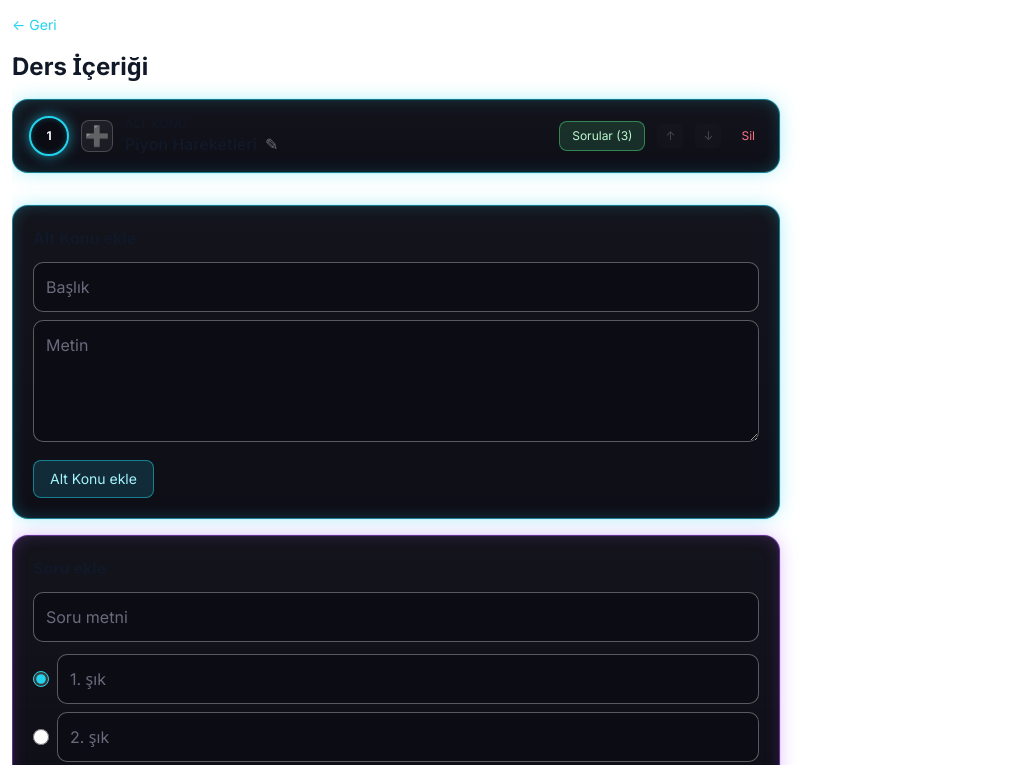
it: Admin ders sayfası — "Ödevini Yap": sadece Soru Sayısı (Başarı Puanı YOK) › "Ödevini Yap"ta Başarı Puanı Belirle kutusu GÖSTERİLMEZ
This screenshot has width=1036, height=765.
Click the button "Sorular (3)" at point(602, 136), box [559, 121, 645, 151]
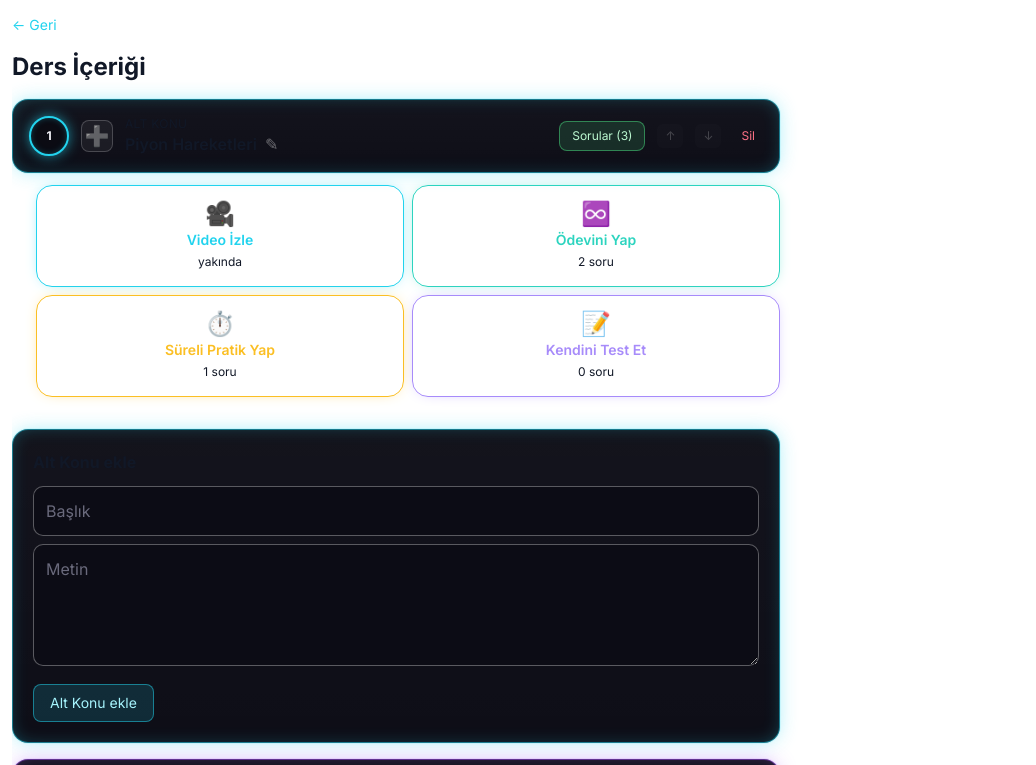
Expected: the text "Ödevini Yap" is shown
Click the text "Ödevini Yap" at point(596, 240), box [556, 230, 636, 250]
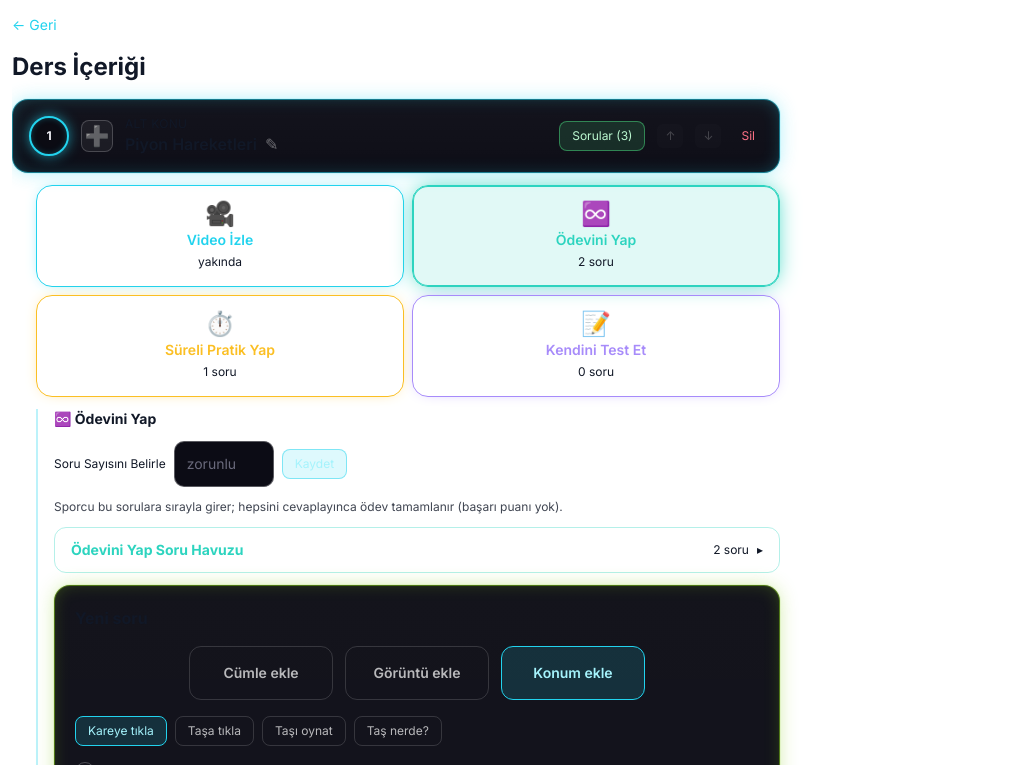
Expected: the text "Soru Sayısını Belirle" is shown, [54, 456, 166, 472]
Expected: the number field labelled "Soru Sayısını Belirle" is shown, [174, 441, 274, 487]
